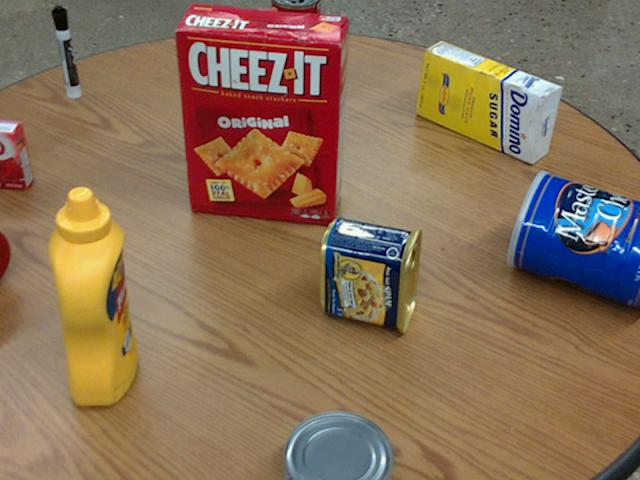cracker_box: (176, 5, 349, 220)
gelatin_box: (0, 120, 35, 188)
large_marker: (53, 6, 81, 97)
master_chef_can: (506, 170, 639, 308)
mug: (0, 228, 13, 281)
mustard_bottle: (48, 186, 137, 404)
potted_meat_can: (319, 217, 421, 333)
sugar_box: (417, 40, 563, 162)
tomato_soup_can: (272, 0, 321, 73)
tuna_fish_can: (282, 411, 391, 479)
